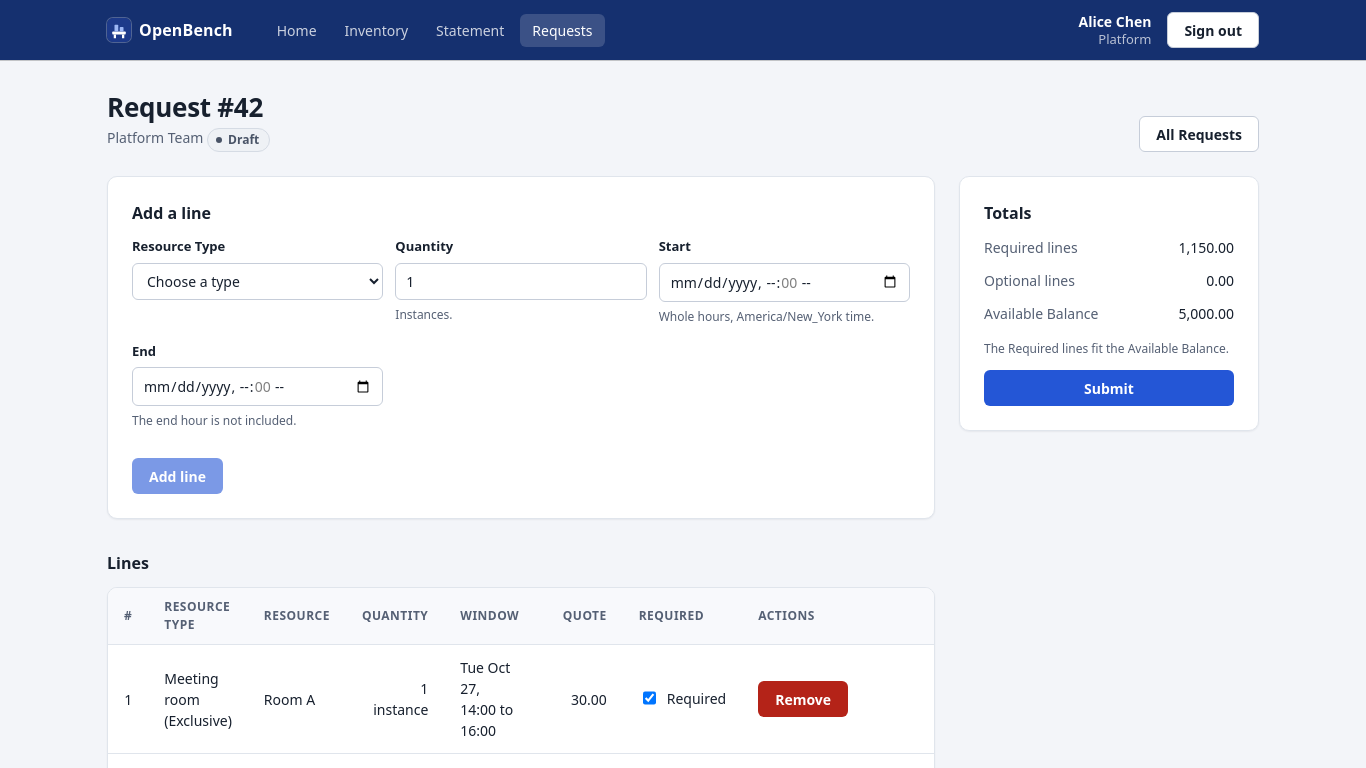
it: RequestPage, Submit › submits the Draft and then shows the Allocated Request’s detail
This screenshot has width=1366, height=768.
Click the button "Submit" at (1109, 388), box [984,370,1234,406]
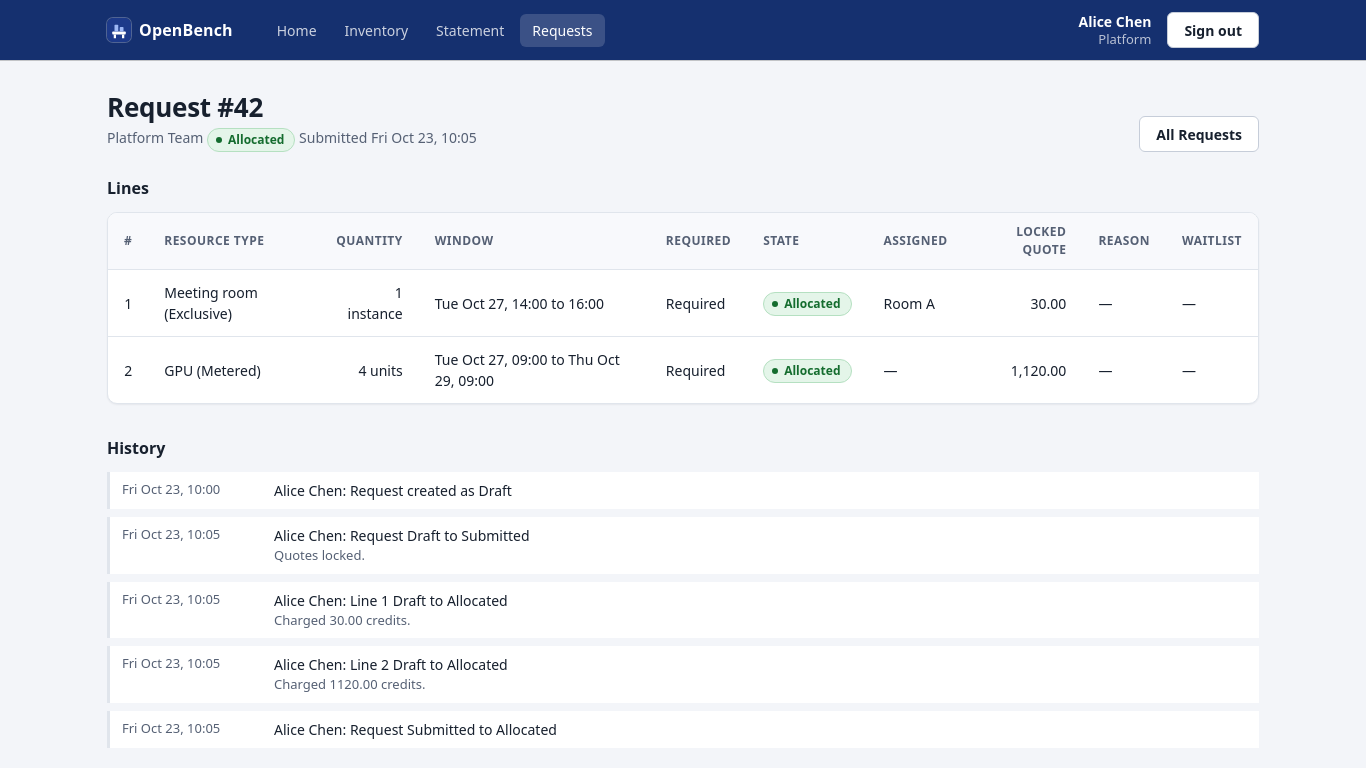
Expected: the row that starts with "Meeting room (Exclusive)" shows "Room A", [884,294,935,313]
Expected: the heading "History" is shown, [107,437,165,459]
Expected: the row that starts with "Meeting room (Exclusive)" shows "Allocated", [784,295,840,312]
